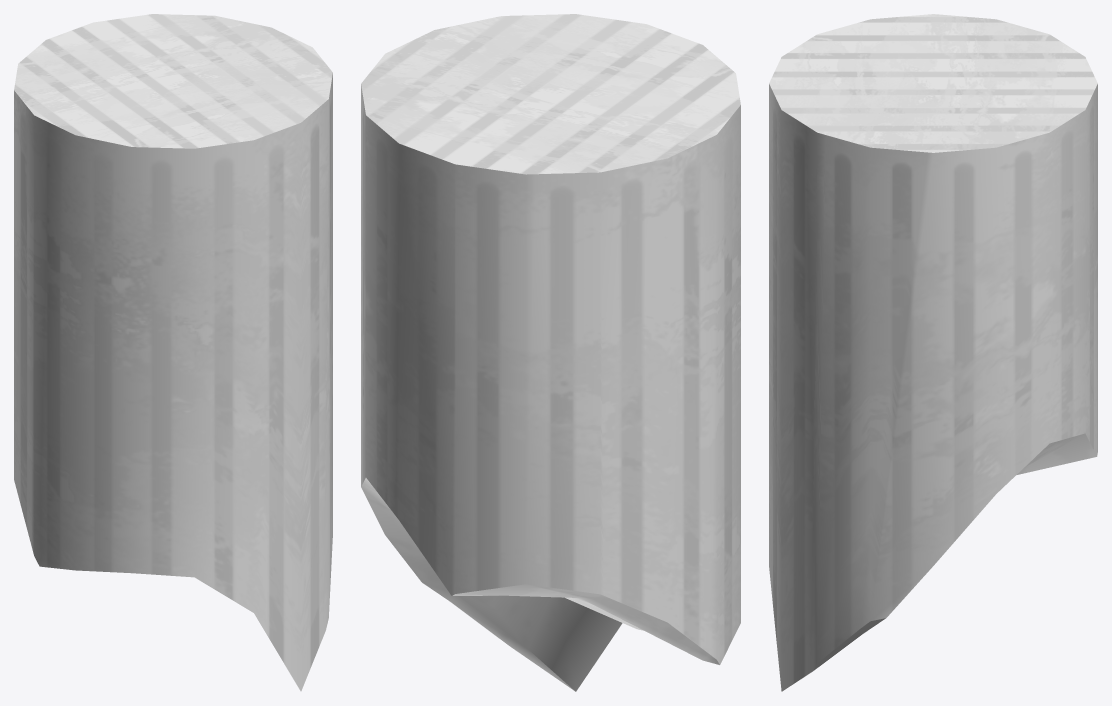
File: GreekPilarBroken.fbx
The picture shows the model from 3 angles, left to right: view 1: azimuth 30°, elevation 25°; view 2: azimuth 150°, elevation 25°; view 3: azimuth 270°, elevation 25°; orthographic projection. The views are drawn at different scales.
Parts seen in each view (by area): view 1: Cylinder.012; view 2: Cylinder.012; view 3: Cylinder.012.
Boxes of the visible parts, x1=… form: Cylinder.012: x1=14, y1=14, x2=332, y2=691; Cylinder.012: x1=361, y1=14, x2=740, y2=691; Cylinder.012: x1=769, y1=14, x2=1097, y2=691.
Bounding box in the file's own units: 338 × 661 × 338.
1 material, 1 textured.
